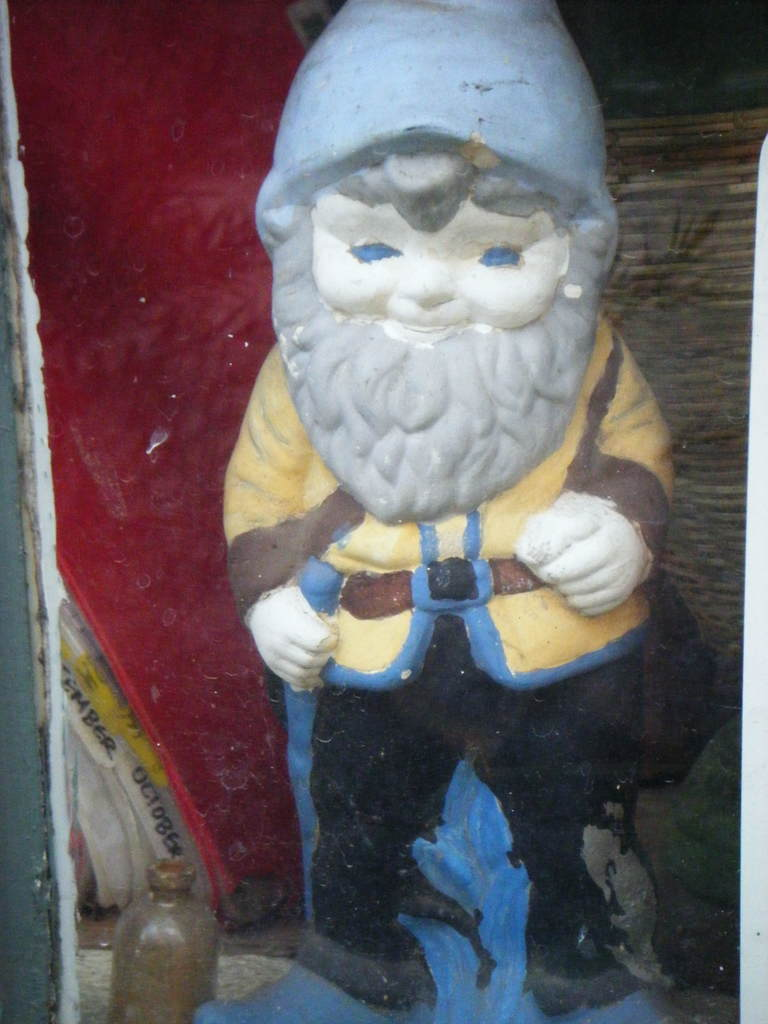Person: (214, 0, 658, 1010)
